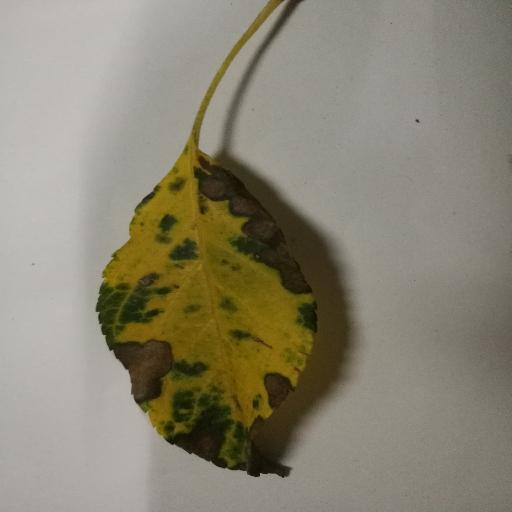Brown_Spot: (203, 167, 303, 289), (117, 343, 169, 397), (191, 429, 238, 459), (264, 370, 292, 404)
